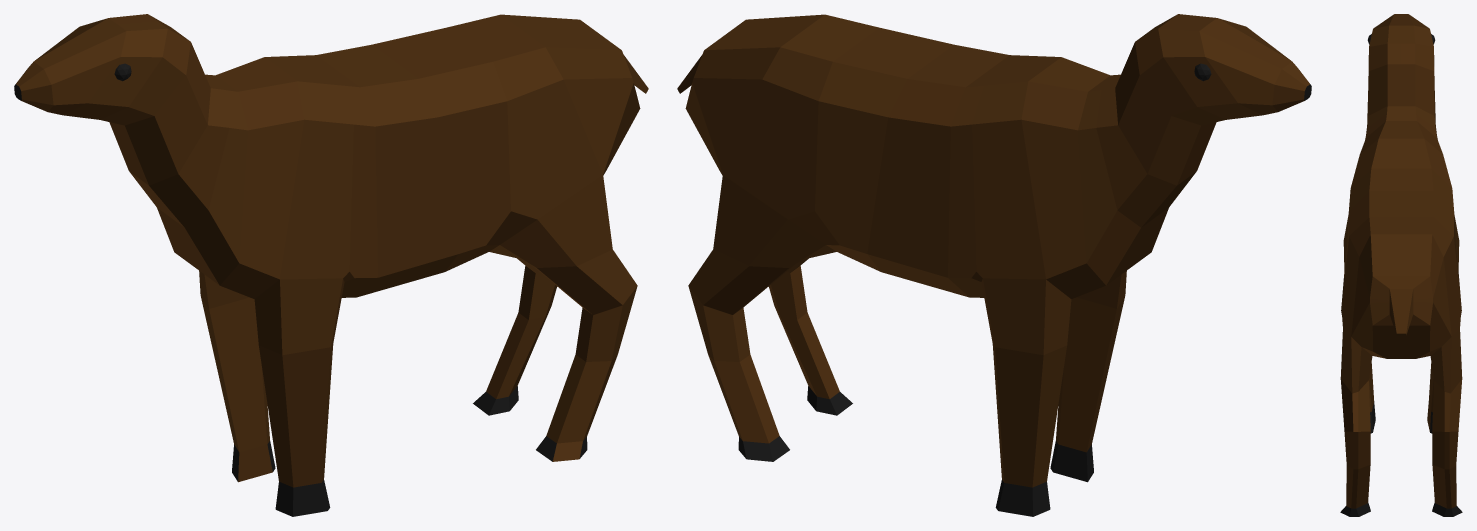
Rendered from MageHunter - Deer_noantlers(1).fbx.
3 renders of one model, left to right at view 1: azimuth 30°, elevation 25°; view 2: azimuth 150°, elevation 25°; view 3: azimuth 270°, elevation 25°, orthographic. The views are drawn at different scales.
Visible parts, largest first — view 1: Cube; view 2: Cube; view 3: Cube.
Part boxes in pixels (<box>): Cube: <box>14,14,648,516</box>; Cube: <box>677,14,1311,516</box>; Cube: <box>1340,14,1462,516</box>.
Bounding box in the file's own units: 501 × 386 × 123.
